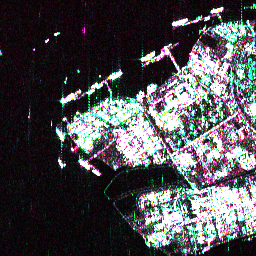ship: (138, 49, 157, 64), (58, 91, 77, 106), (75, 156, 92, 171), (53, 126, 67, 142), (170, 17, 189, 28), (110, 70, 124, 81), (209, 5, 224, 15), (55, 157, 66, 170), (91, 168, 101, 178), (52, 29, 61, 37), (43, 37, 50, 43)
